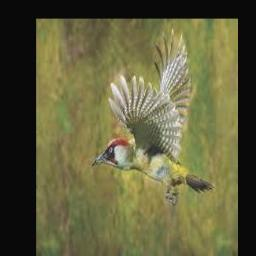Woodpecker: (91, 28, 215, 205)
